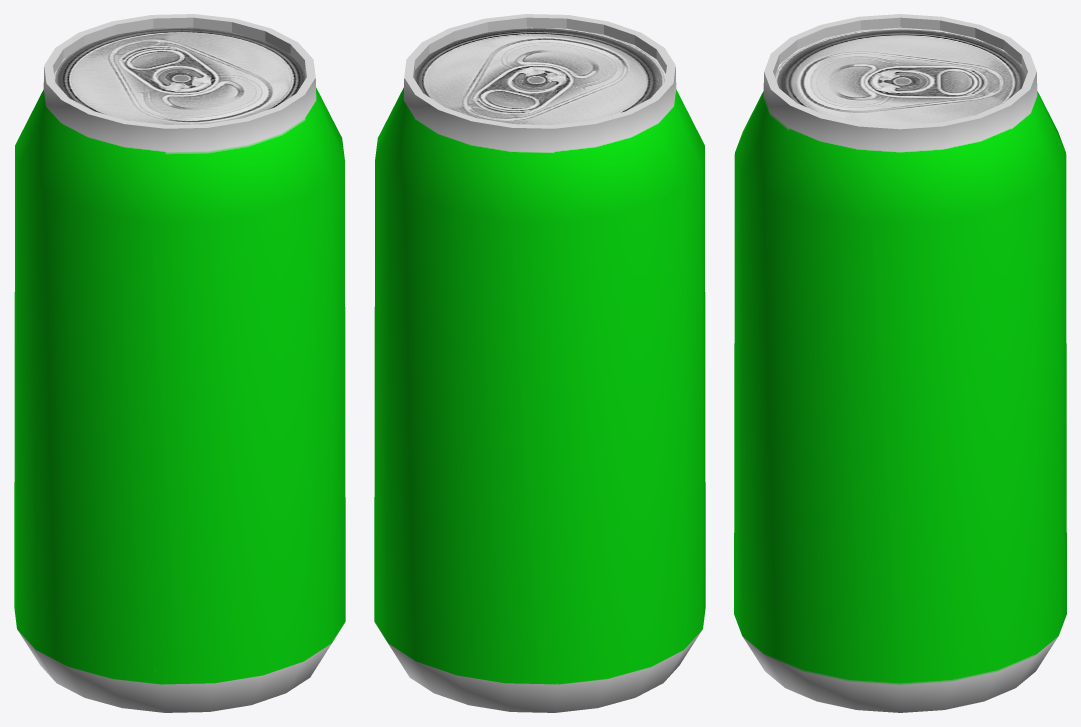
Rendered from Can_Green.fbx.
3 views of the same model, side by side, from view 1: azimuth 30°, elevation 25°; view 2: azimuth 150°, elevation 25°; view 3: azimuth 270°, elevation 25° (orthographic).
Parts seen in each view (by area): view 1: pCylinder4; view 2: pCylinder4; view 3: pCylinder4.
Boxes of the visible parts, x1,y1,x2,y2 form: pCylinder4: [14, 14, 345, 712]; pCylinder4: [374, 14, 705, 712]; pCylinder4: [734, 14, 1066, 712].
Size of the model in its own units: 5.65 by 10.88 by 5.65.
